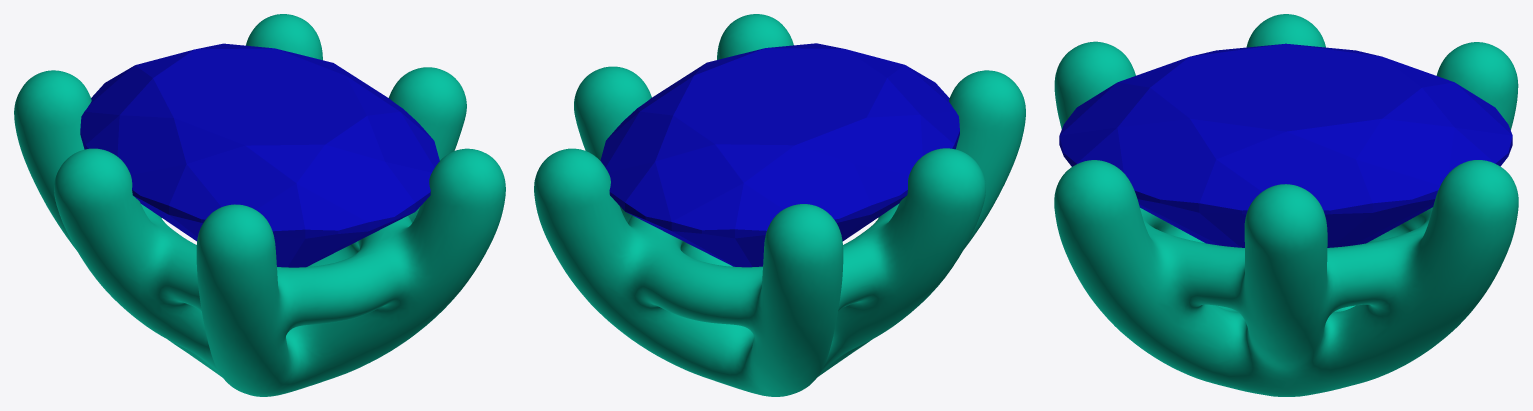
File: Oval.glb
3 renders of one model, left to right at view 1: azimuth 30°, elevation 25°; view 2: azimuth 150°, elevation 25°; view 3: azimuth 270°, elevation 25°, orthographic. The views are drawn at different scales.
Parts seen in each view (by area): view 1: /GSMOD388300-6 PRONG_Oval_IJ.3dm, Diamond_Oval; view 2: /GSMOD388300-6 PRONG_Oval_IJ.3dm, Diamond_Oval; view 3: /GSMOD388300-6 PRONG_Oval_IJ.3dm, Diamond_Oval.
Part boxes in pixels (x1=…): /GSMOD388300-6 PRONG_Oval_IJ.3dm: x1=14, y1=14, x2=505, y2=396; Diamond_Oval: x1=80, y1=43, x2=439, y2=267; /GSMOD388300-6 PRONG_Oval_IJ.3dm: x1=534, y1=14, x2=1025, y2=396; Diamond_Oval: x1=600, y1=43, x2=959, y2=267; /GSMOD388300-6 PRONG_Oval_IJ.3dm: x1=1054, y1=14, x2=1518, y2=396; Diamond_Oval: x1=1059, y1=43, x2=1512, y2=247.
Size of the model in its own units: 9.21 by 6.38 by 8.81.
